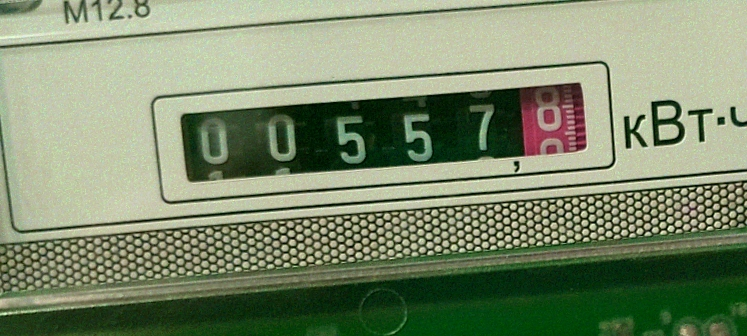0: (193, 110, 234, 169), (261, 109, 300, 164)
5: (396, 104, 440, 166), (330, 108, 370, 168)
7: (462, 97, 500, 155)
8: (532, 83, 564, 135)
screen: (144, 40, 624, 219)
